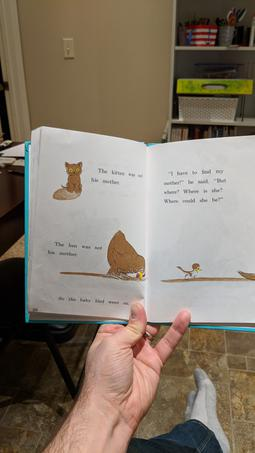text block: (149, 168, 240, 206), (47, 290, 143, 315), (36, 229, 109, 259), (84, 162, 148, 189)
